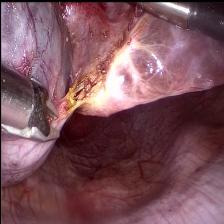Clipper: (0, 63, 66, 145)
